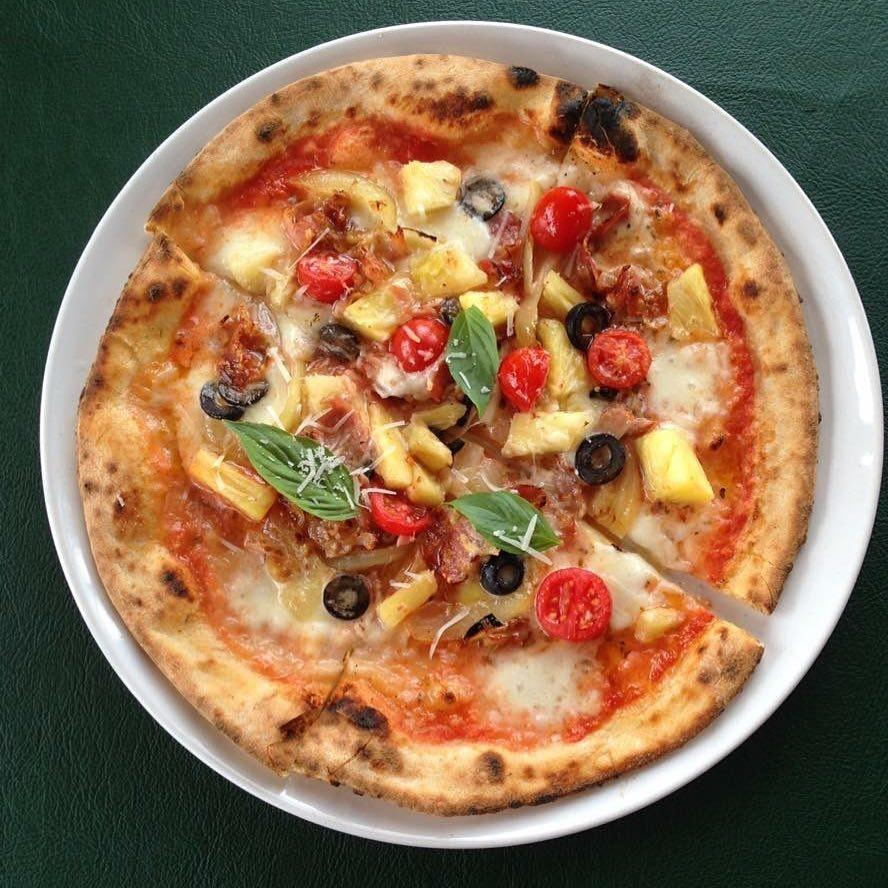Basil: (232, 417, 372, 521), (451, 491, 558, 555), (441, 304, 505, 409)
Ham: (597, 271, 659, 314), (486, 219, 533, 274), (589, 192, 627, 238)
Olives: (197, 372, 271, 418), (581, 436, 623, 487), (479, 551, 525, 597), (326, 574, 369, 621), (461, 171, 504, 218), (566, 302, 610, 347), (311, 321, 365, 356)
Pineapple: (362, 416, 454, 505), (187, 432, 274, 519), (644, 429, 713, 505), (346, 272, 421, 339), (312, 169, 392, 230), (396, 162, 474, 218), (666, 266, 714, 338), (509, 414, 586, 458), (382, 569, 440, 626), (546, 319, 585, 399), (412, 242, 474, 291), (292, 372, 352, 410)
Pizza: (79, 54, 819, 819)
Tomatoes: (534, 569, 610, 647), (532, 182, 590, 256), (581, 329, 650, 388), (496, 343, 554, 408), (387, 312, 440, 374), (361, 489, 431, 534), (297, 254, 364, 295)
